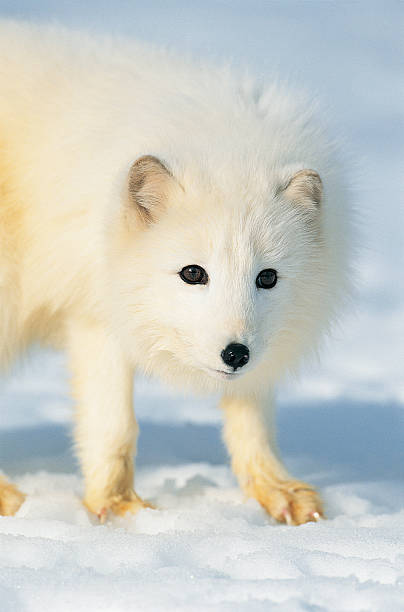arcticfox: (147, 193, 283, 386)
